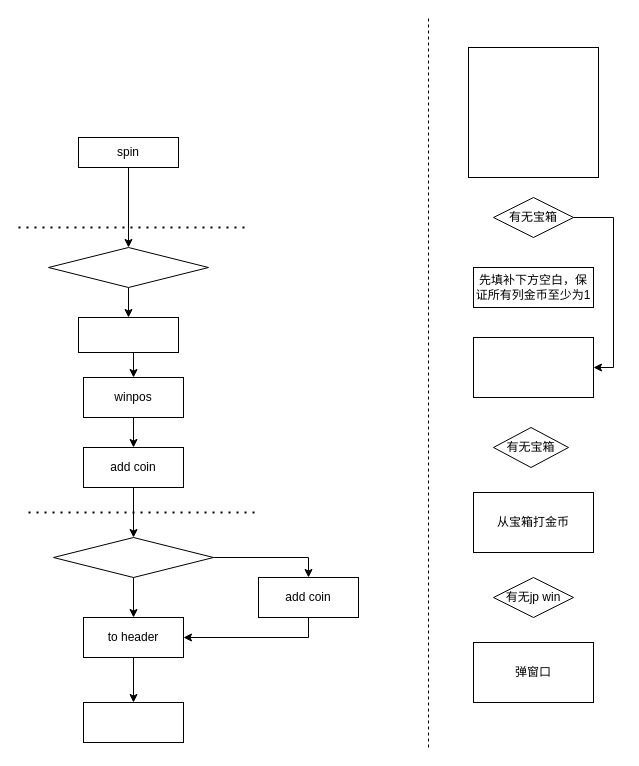
Image size: 639x766. Some labels were removed from this diagram. Here are the shapes that lost their labels. From the top down, the box of each, then its label:
(468, 46, 598, 178): 掉落金币 字段 origin_coin_rec 格式 [ 0 , 3 , 1 , 0 , 2 ] 最上部类型 coin_type
(48, 246, 208, 288): bonus
(78, 316, 178, 352): chest bonus
(472, 336, 594, 398): 从最下部翻金币 hit_wild_by_step wild_pos_origin
(52, 536, 214, 578): free
(82, 702, 184, 742): end
